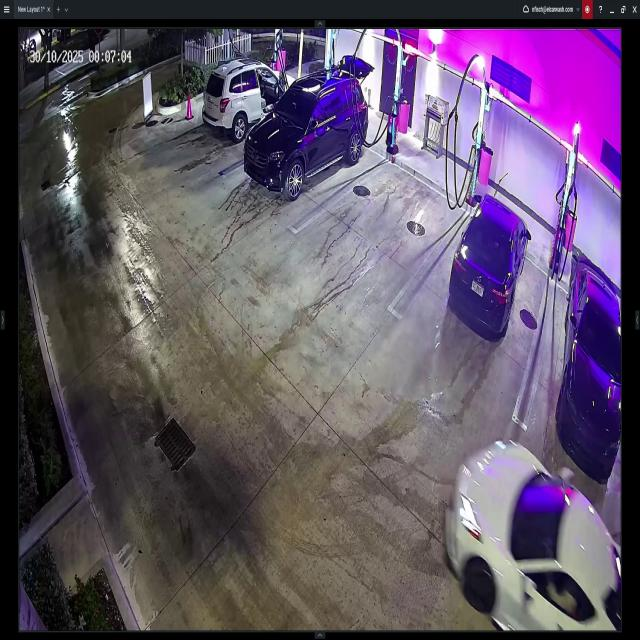Car: (446, 442, 621, 634), (244, 62, 368, 197), (559, 251, 621, 481), (448, 196, 530, 334), (202, 54, 296, 142)
